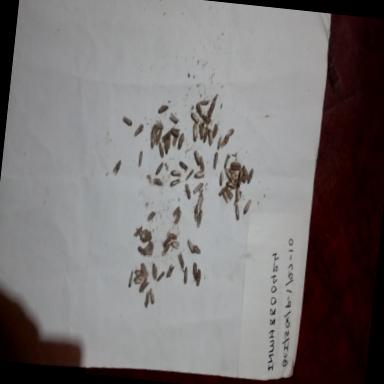pbw: (138, 273, 152, 295), (192, 176, 206, 197), (191, 168, 207, 185), (178, 264, 190, 286), (138, 260, 151, 280), (138, 226, 154, 242), (232, 201, 243, 224), (228, 155, 242, 173), (142, 284, 151, 312), (132, 122, 146, 140), (244, 164, 255, 186), (153, 128, 165, 148), (240, 160, 252, 180), (200, 124, 210, 148), (160, 126, 173, 144), (194, 101, 205, 122), (148, 128, 158, 151), (155, 140, 167, 159), (222, 125, 236, 141), (164, 228, 178, 244), (168, 124, 182, 140), (183, 182, 194, 202), (195, 208, 206, 228), (192, 146, 202, 168), (196, 189, 206, 211), (220, 188, 232, 206), (168, 108, 180, 126), (204, 100, 216, 118), (142, 240, 155, 256), (201, 110, 214, 126), (146, 208, 158, 225), (154, 160, 164, 180), (150, 261, 160, 281), (233, 184, 243, 204), (220, 132, 230, 152), (216, 130, 225, 152), (211, 150, 220, 172), (136, 243, 147, 261), (223, 164, 234, 182), (217, 166, 226, 188), (206, 129, 215, 151), (198, 93, 212, 107), (170, 165, 183, 180), (192, 203, 200, 227), (153, 116, 165, 132), (132, 223, 144, 239), (162, 136, 171, 157), (235, 167, 244, 188), (190, 122, 199, 143), (192, 260, 200, 283), (152, 176, 166, 189), (186, 238, 196, 256), (166, 262, 176, 280), (112, 159, 122, 177), (211, 120, 220, 140), (178, 157, 190, 172), (190, 108, 200, 126), (243, 196, 253, 214), (170, 130, 180, 148), (177, 130, 186, 150), (156, 268, 166, 286), (208, 91, 219, 107), (127, 268, 135, 290), (173, 207, 182, 226), (162, 239, 172, 256), (184, 165, 194, 182), (158, 102, 170, 116), (122, 114, 134, 128), (196, 121, 204, 142), (224, 178, 238, 190), (221, 152, 230, 170), (224, 186, 234, 202), (136, 150, 144, 170), (148, 286, 156, 306), (218, 184, 228, 200), (169, 238, 181, 251), (132, 275, 145, 287), (169, 176, 182, 188), (198, 154, 206, 172), (191, 244, 204, 255), (195, 268, 202, 288), (162, 234, 172, 248), (172, 204, 181, 218), (134, 268, 146, 278), (142, 234, 154, 244), (239, 175, 248, 184)
